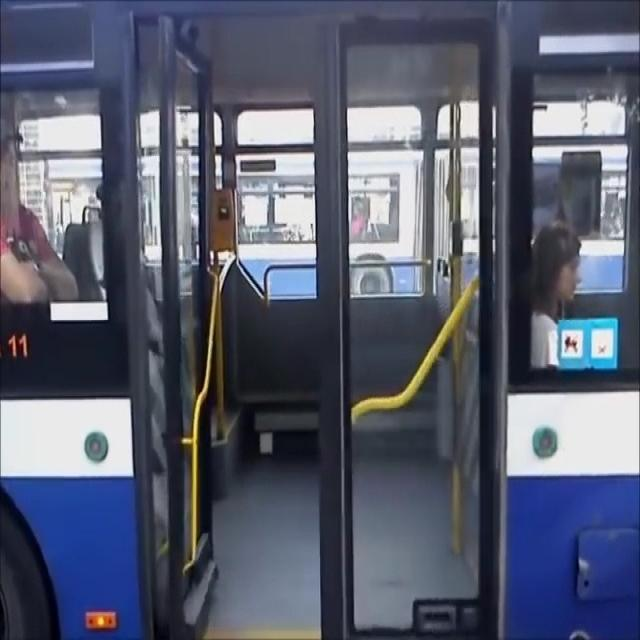bus-door: (316, 28, 491, 637), (152, 18, 215, 632)
